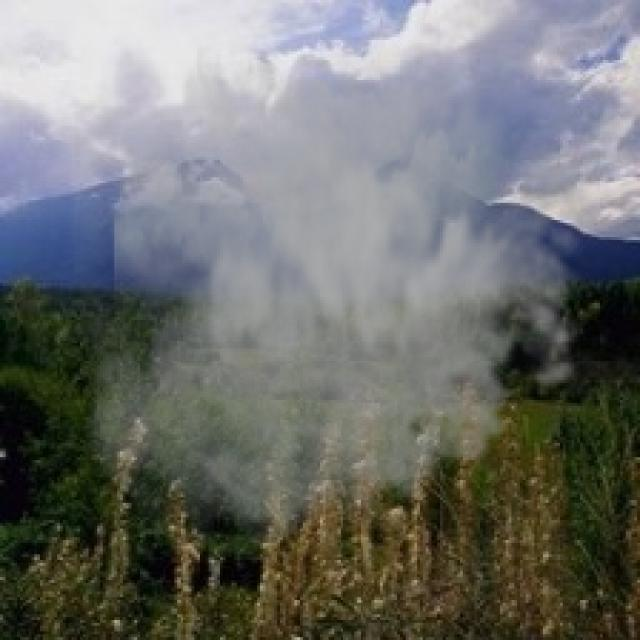Smoke: (75, 8, 614, 563)
